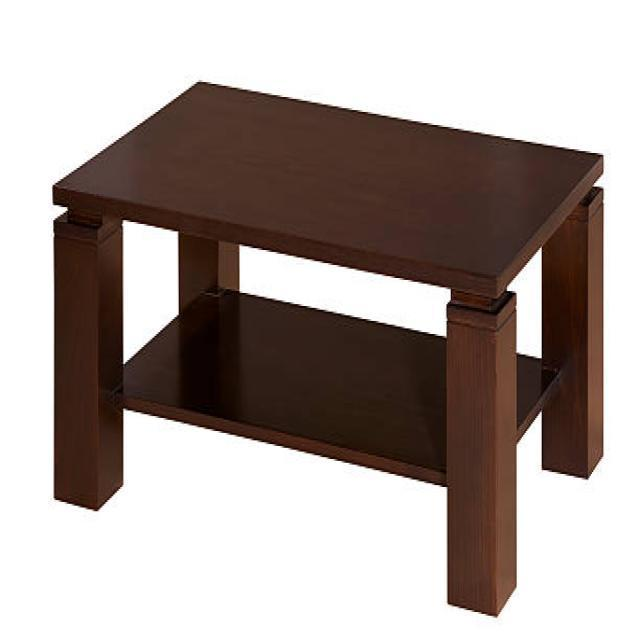table: (51, 77, 604, 616)
